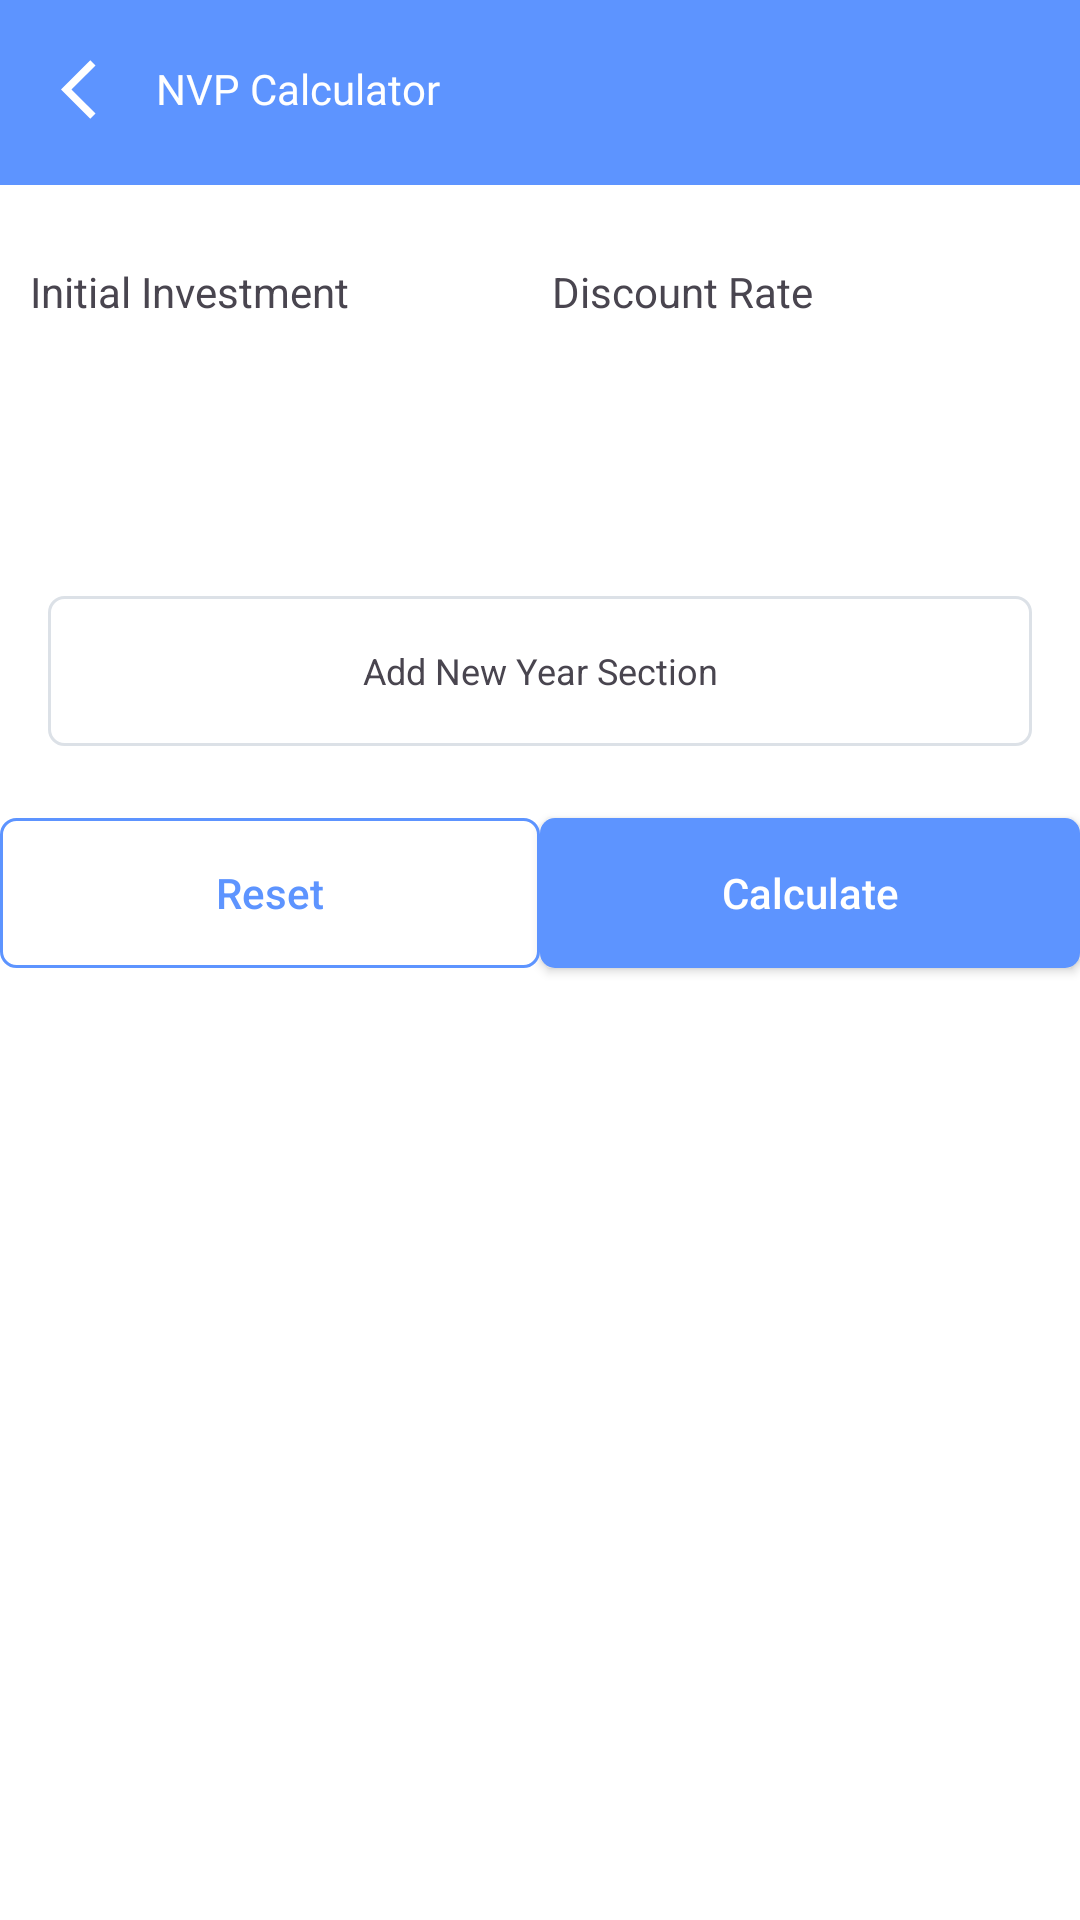

Screen size 1080 x 1920. Icon name, then its box in pixels as (x1, y1, x2, y2):
arrow back: (61, 60, 96, 119)
